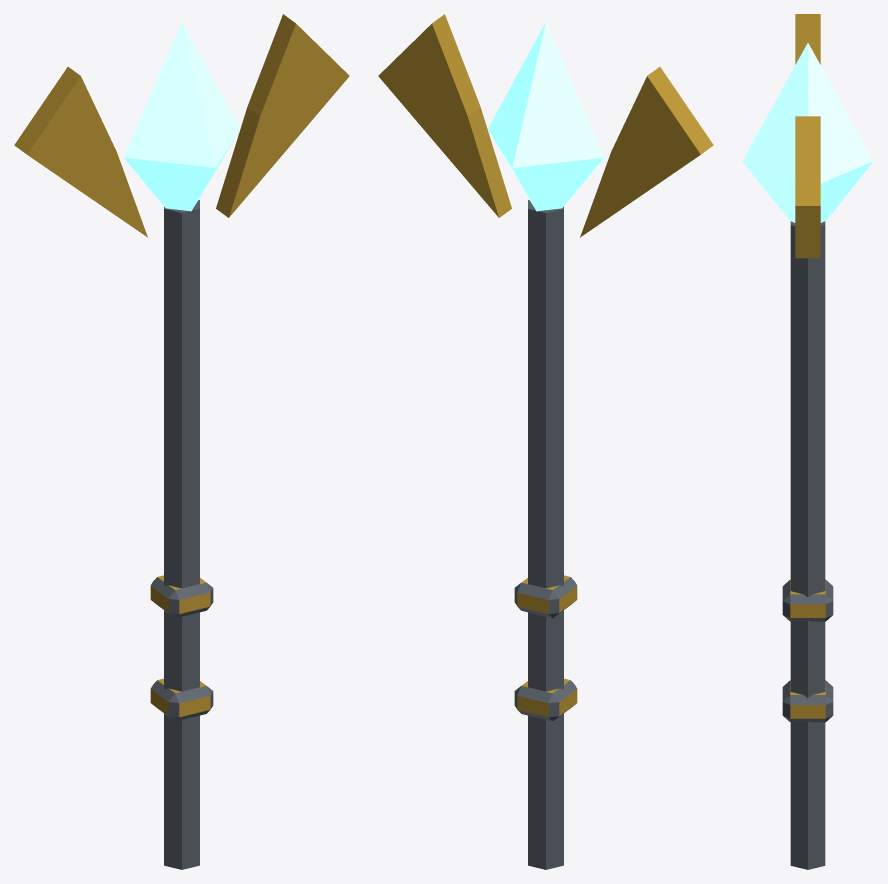
The model's file is stormcaller.glb.
The picture shows the model from 3 angles, left to right: view 1: azimuth 30°, elevation 25°; view 2: azimuth 150°, elevation 25°; view 3: azimuth 270°, elevation 25°; orthographic projection. The views are drawn at different scales.
Visible parts, largest first — view 1: stormcaller; view 2: stormcaller; view 3: stormcaller.
Boxes of the visible parts, <box> form: stormcaller: <box>14,14,349,869</box>; stormcaller: <box>378,14,713,869</box>; stormcaller: <box>742,14,873,869</box>.
Bounding box in the file's own units: 0.72 × 1.79 × 0.26.
